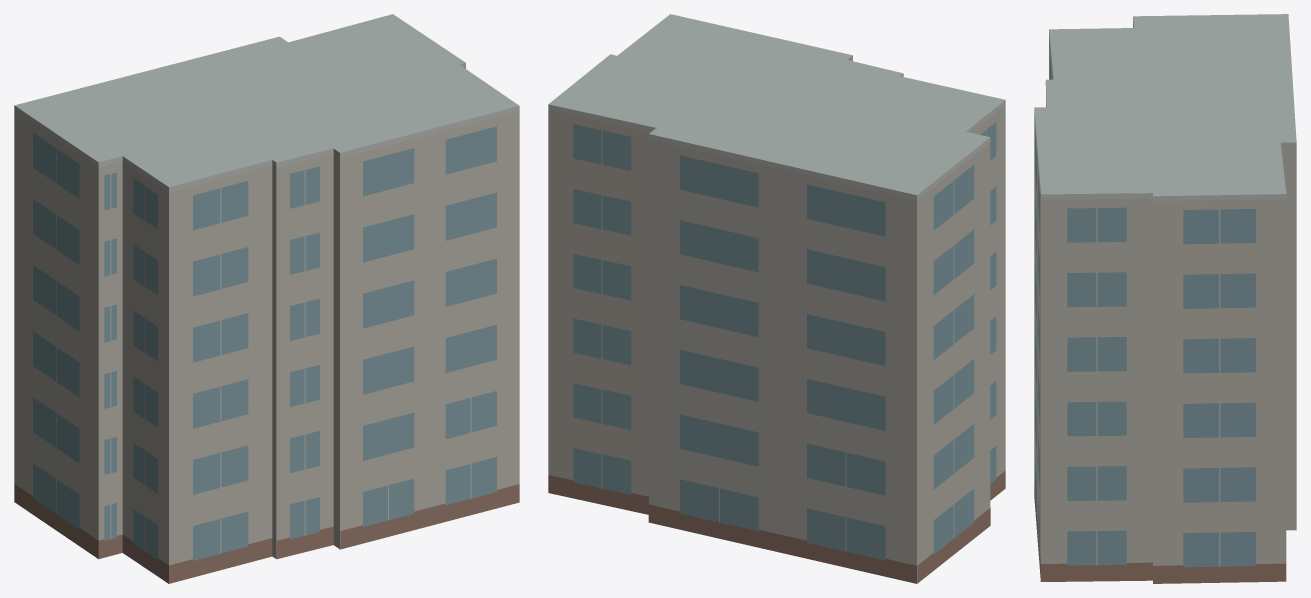
Rendered from survey-upis-32725810.glb.
3 renders of one model, left to right at view 1: azimuth 30°, elevation 25°; view 2: azimuth 150°, elevation 25°; view 3: azimuth 270°, elevation 25°, orthographic. The views are drawn at different scales.
Parts seen in each view (by area): view 1: survey-upis-32725810.tmp; view 2: survey-upis-32725810.tmp; view 3: survey-upis-32725810.tmp.
Boxes of the visible parts, bbox=[...] form: survey-upis-32725810.tmp: bbox=[14, 14, 519, 583]; survey-upis-32725810.tmp: bbox=[548, 14, 1005, 583]; survey-upis-32725810.tmp: bbox=[1034, 14, 1296, 583].
Bounding box in the file's own units: 18.47 × 18.3 × 11.24.
